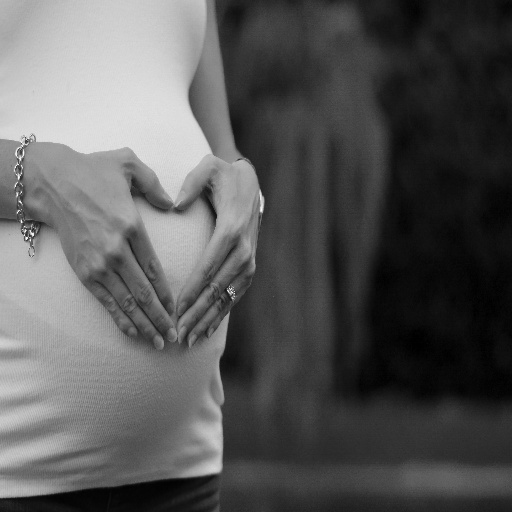hand: (0, 140, 178, 353), (172, 149, 262, 349)
